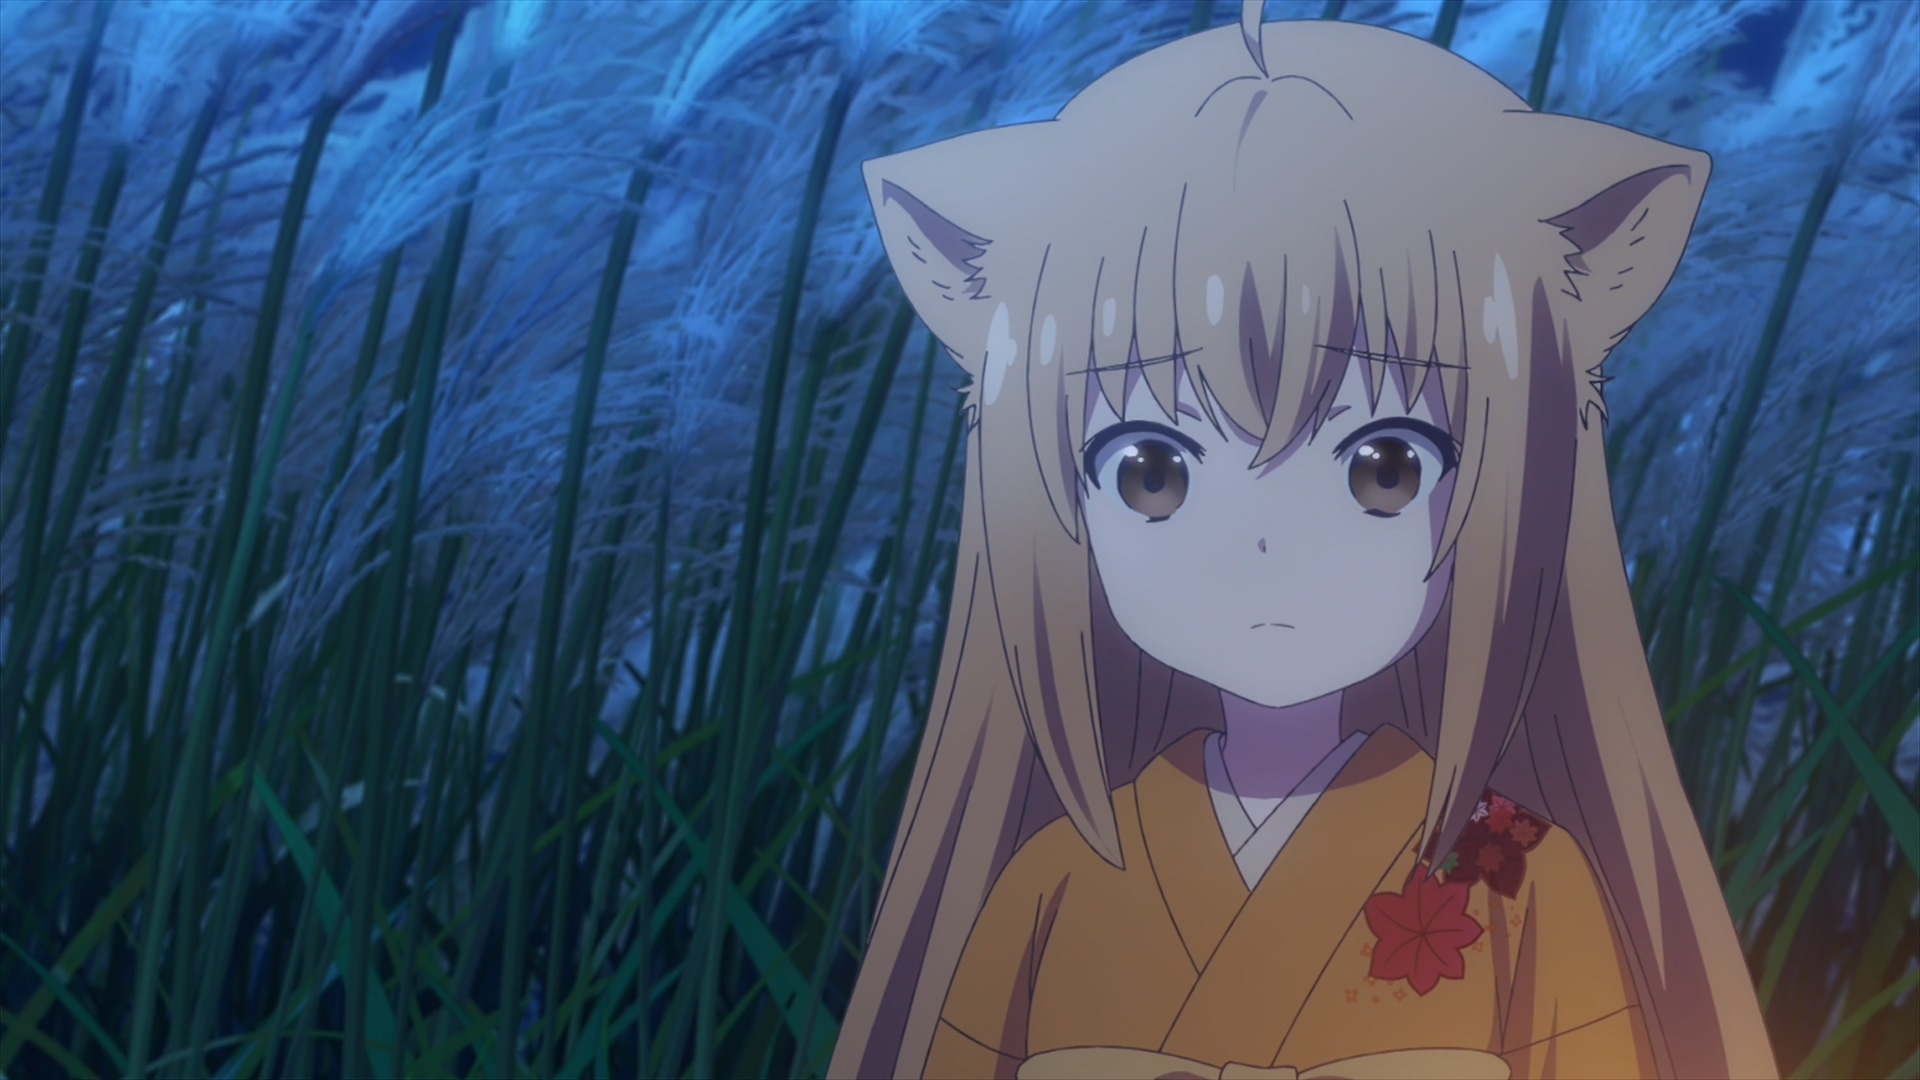柚: (829, 1, 1778, 1080)
